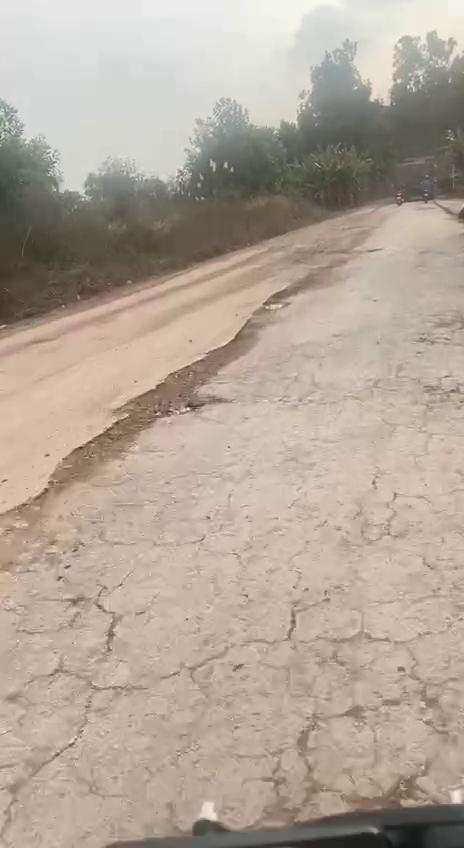pothole: (117, 352, 248, 437)
